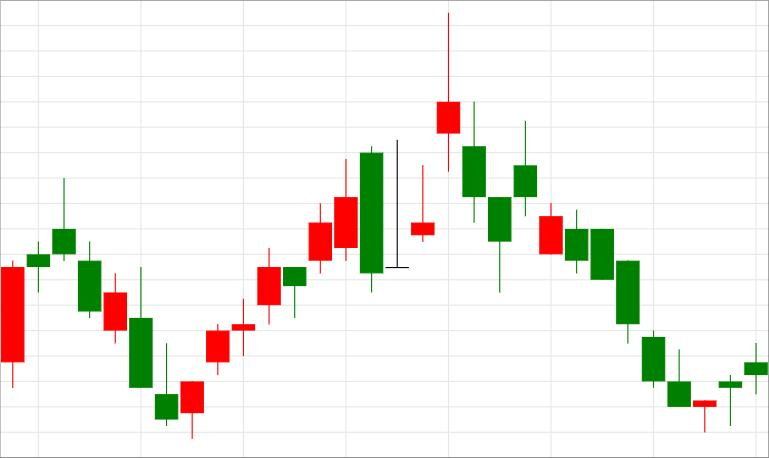bearish_engulfing_fall: (180, 147, 383, 440)
